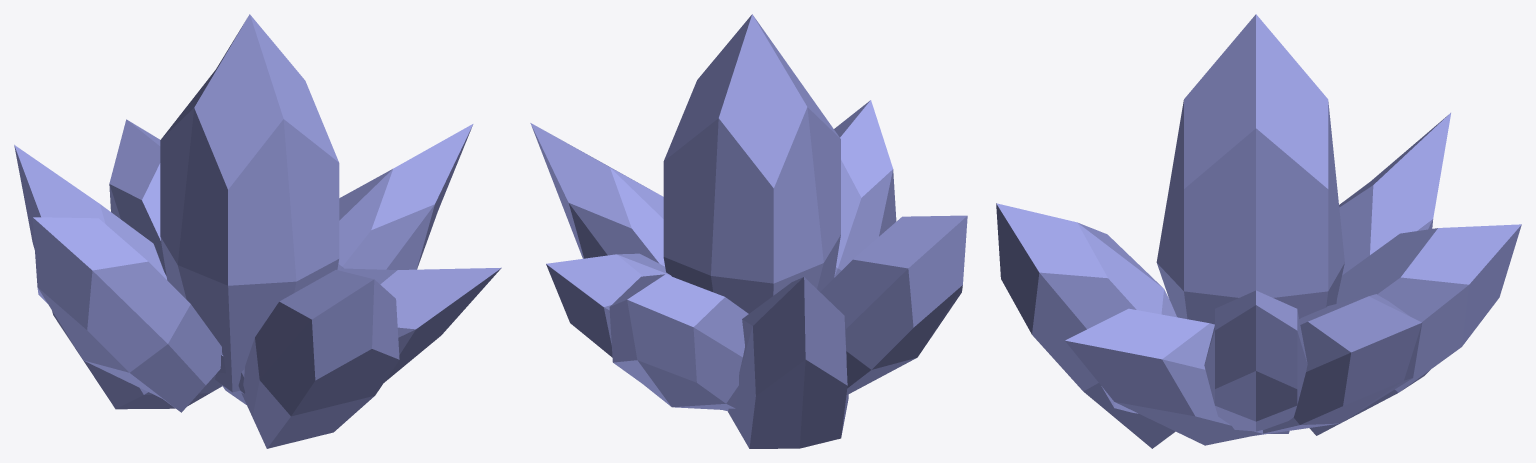
Rendered from CrystalIce.fbx.
3 views of the same model, side by side, from view 1: azimuth 30°, elevation 25°; view 2: azimuth 150°, elevation 25°; view 3: azimuth 270°, elevation 25° (orthographic). The views are drawn at different scales.
Parts seen in each view (by area): view 1: pCube9; view 2: pCube9; view 3: pCube9.
Part boxes in pixels (x1,y1,x2,y2): pCube9: (14,14,501,448); pCube9: (530,14,967,448); pCube9: (996,14,1521,448).
Size of the model in its own units: 21.79 by 18.48 by 21.13.
